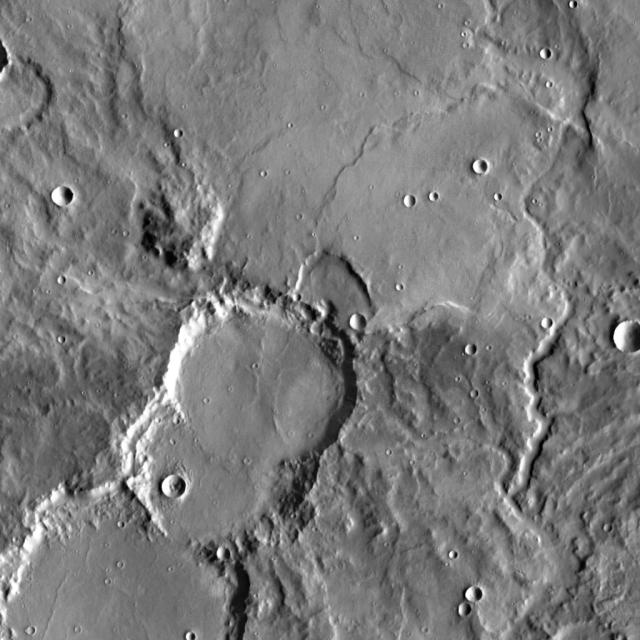crater: (0, 482, 238, 640), (119, 364, 308, 554), (160, 285, 348, 473), (284, 256, 366, 340), (0, 53, 45, 131), (606, 321, 638, 353), (156, 474, 178, 498), (46, 186, 66, 206), (460, 586, 476, 602), (344, 312, 359, 328), (466, 160, 481, 173), (210, 546, 223, 560), (458, 344, 471, 356), (452, 603, 464, 616), (397, 195, 409, 207), (533, 49, 545, 60), (535, 317, 546, 328), (422, 192, 432, 202), (167, 130, 176, 140), (596, 524, 606, 533), (442, 551, 451, 560), (179, 632, 189, 640), (488, 194, 497, 202), (59, 283, 67, 291), (388, 283, 396, 291), (287, 292, 295, 300), (562, 1, 570, 9), (540, 525, 548, 533), (463, 392, 471, 399), (59, 344, 66, 351), (122, 239, 129, 246), (546, 89, 553, 96), (118, 528, 124, 536), (454, 426, 462, 432), (174, 422, 182, 428), (118, 569, 124, 575), (422, 634, 428, 640), (27, 636, 34, 640)
